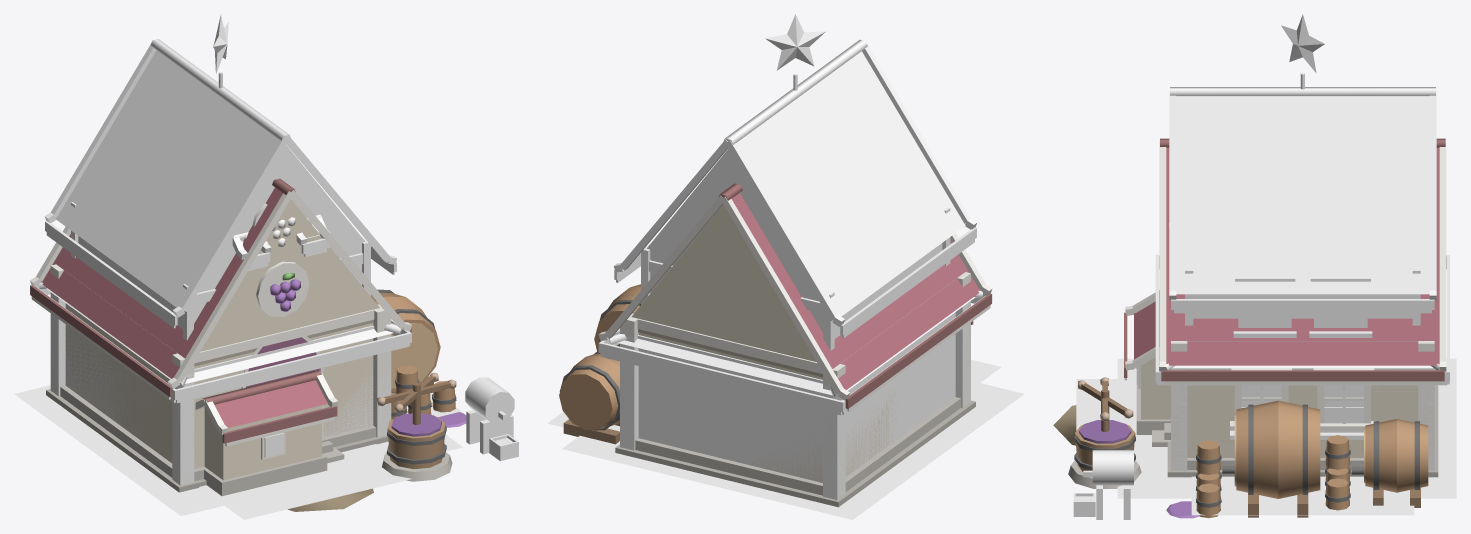
Rendered from winery_3.glb.
3 views of the same model, side by side, from view 1: azimuth 30°, elevation 25°; view 2: azimuth 150°, elevation 25°; view 3: azimuth 270°, elevation 25° (orthographic). The views are drawn at different scales.
Parts seen in each view (by area): view 1: body5, when_plan_true, winery_3, body3, spin_110_0; view 2: when_plan_true, body5, winery_3; view 3: when_plan_true, body5, winery_3, body3, body2, body4.
Boxes of the visible parts, left/top/right/bottom form: body5: left=30, top=178, right=452, bottom=511; when_plan_true: left=30, top=15, right=518, bottom=485; winery_3: left=14, top=385, right=462, bottom=519; body3: left=395, top=365, right=466, bottom=427; spin_110_0: left=377, top=379, right=456, bottom=406; when_plan_true: left=598, top=14, right=992, bottom=499; body5: left=559, top=183, right=992, bottom=507; winery_3: left=547, top=359, right=1024, bottom=519; when_plan_true: left=1073, top=14, right=1449, bottom=519; body5: left=1053, top=138, right=1446, bottom=517; winery_3: left=1076, top=358, right=1456, bottom=515; body3: left=1166, top=435, right=1350, bottom=518; body2: left=1196, top=468, right=1350, bottom=497; body4: left=1078, top=380, right=1133, bottom=418.
Size of the model in its own units: 2.65 by 3.16 by 2.8.
